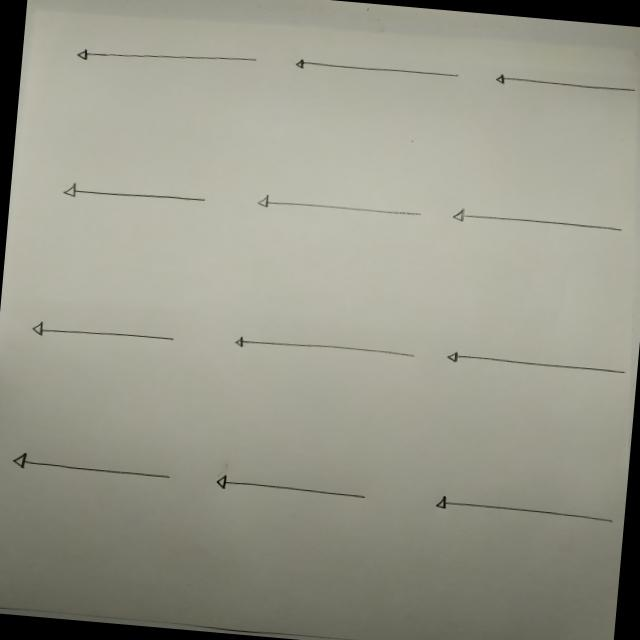arrow_line_left: (420, 487, 618, 536), (429, 340, 629, 388), (216, 328, 420, 372), (65, 35, 266, 78), (240, 186, 432, 230), (443, 200, 630, 244), (19, 313, 188, 360), (48, 173, 222, 218), (2, 448, 180, 489), (202, 468, 384, 508), (286, 50, 467, 90), (485, 65, 640, 104)
